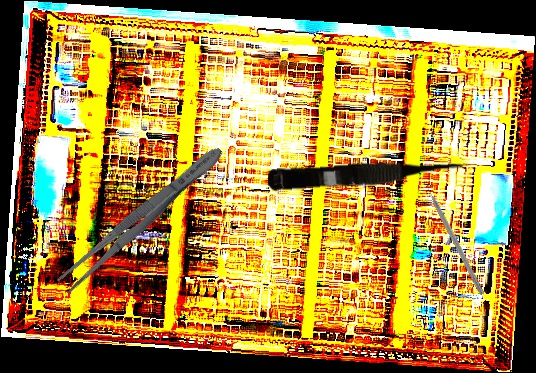Chopper: (422, 176, 491, 296)
Dressing Forceps: (53, 139, 230, 298)
Micro Scissor: (267, 154, 473, 197)
